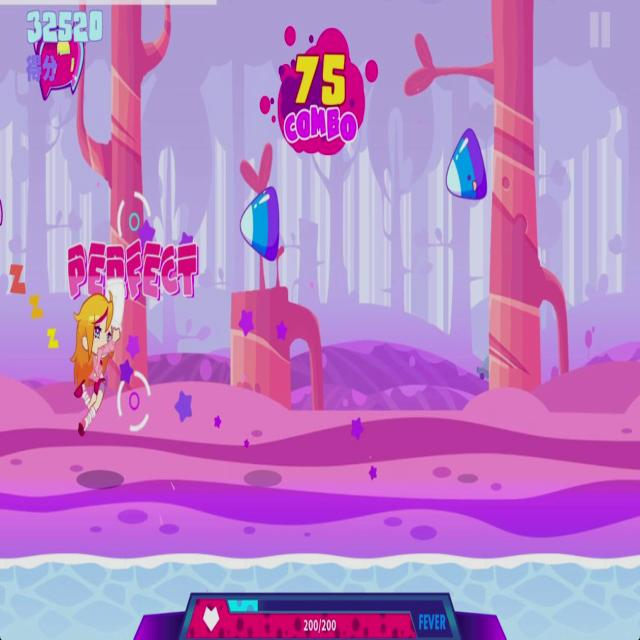jian: (443, 124, 492, 206), (237, 182, 283, 266)
mao: (29, 18, 88, 104)
